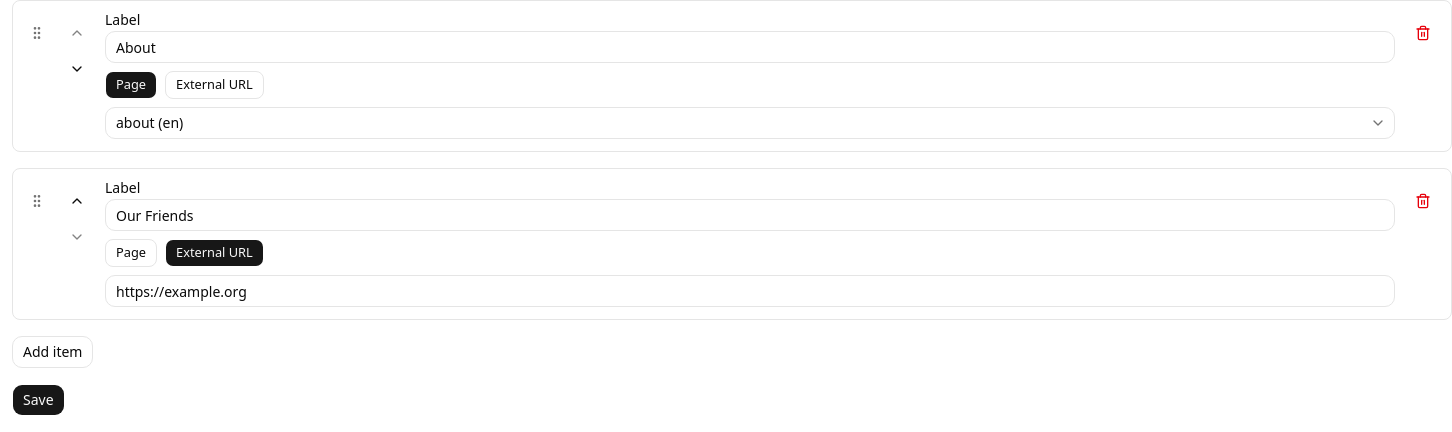
NavItemListEditor › switching a row's mode clears the other field's visible control
// The second row ("Our Friends") starts in External mode — switch it to Page.
Click the 2nd button "Page" at (131, 253), box [105,239,157,267]
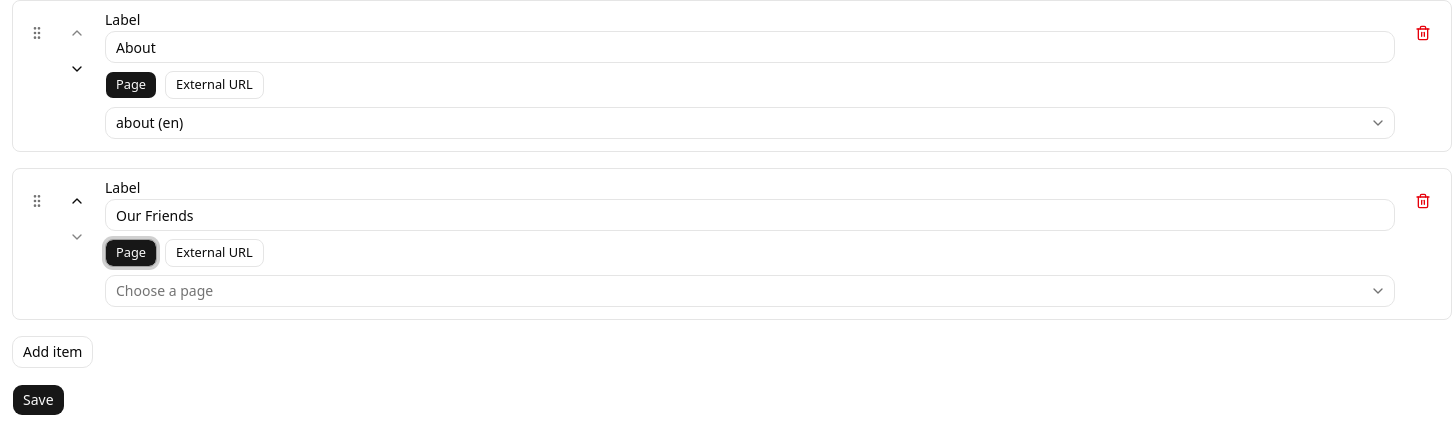
Expected: the field with placeholder "https://…" is gone
Expected: the text "Choose a page" is shown once, [116,281,213,301]
